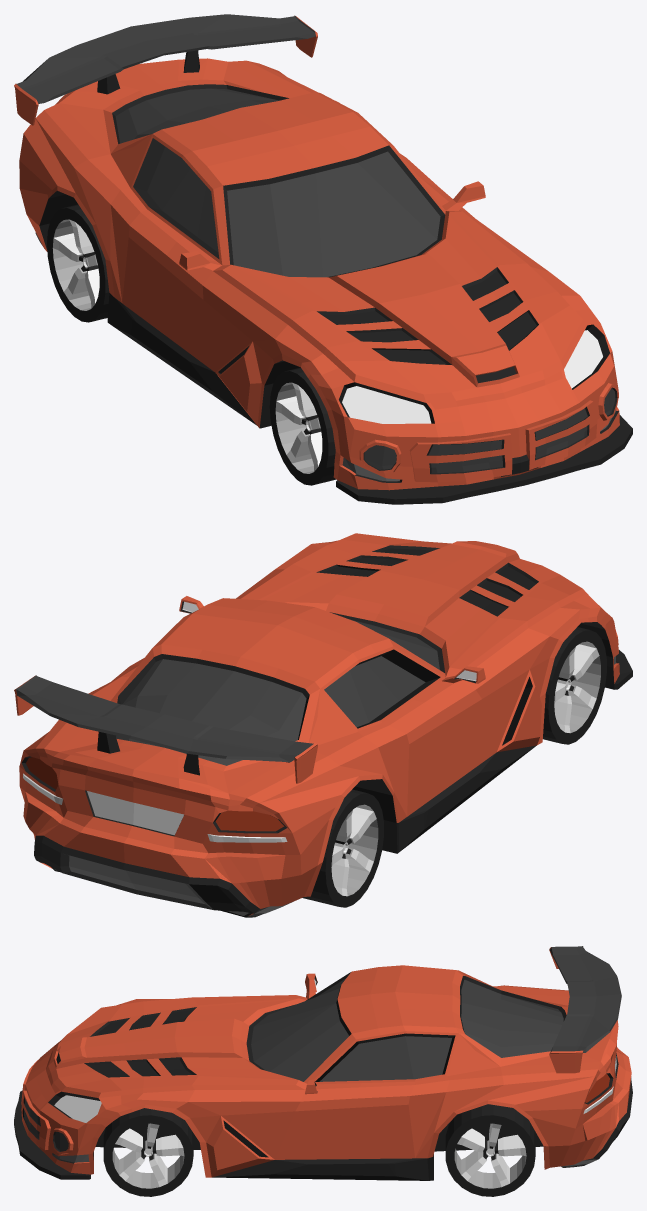
File: dodgevipersrt10acr-x.fbx
The picture shows the model from 3 angles, top to bottom: view 1: azimuth 30°, elevation 25°; view 2: azimuth 150°, elevation 25°; view 3: azimuth 270°, elevation 25°; orthographic projection. The views are drawn at different scales.
Visible parts, largest first — view 1: RedBody, FrontRight, BackRight; view 2: RedBody, BackRight, FrontRight; view 3: RedBody, BackLeft, FrontLeft.
Part boxes in pixels (x1,y1,x2,y2): RedBody: [14, 14, 632, 504]; FrontRight: [269, 367, 336, 485]; BackRight: [47, 204, 109, 322]; RedBody: [14, 533, 632, 917]; BackRight: [302, 789, 383, 907]; FrontRight: [543, 627, 606, 744]; RedBody: [14, 946, 632, 1180]; BackLeft: [445, 1104, 535, 1196]; FrontLeft: [103, 1108, 193, 1196].
Size of the model in its own units: 1.9 by 4.45 by 1.21.
